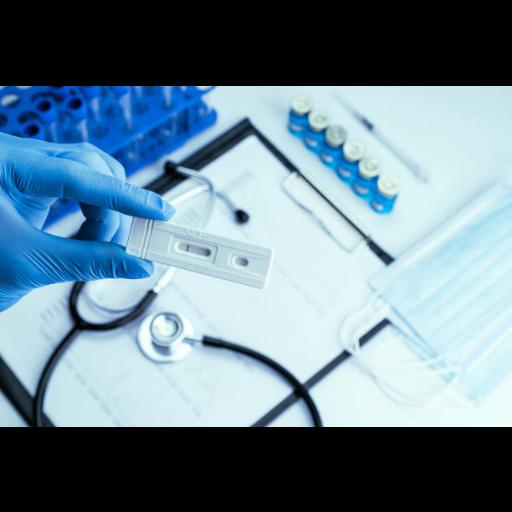Neg: (124, 214, 273, 288)
